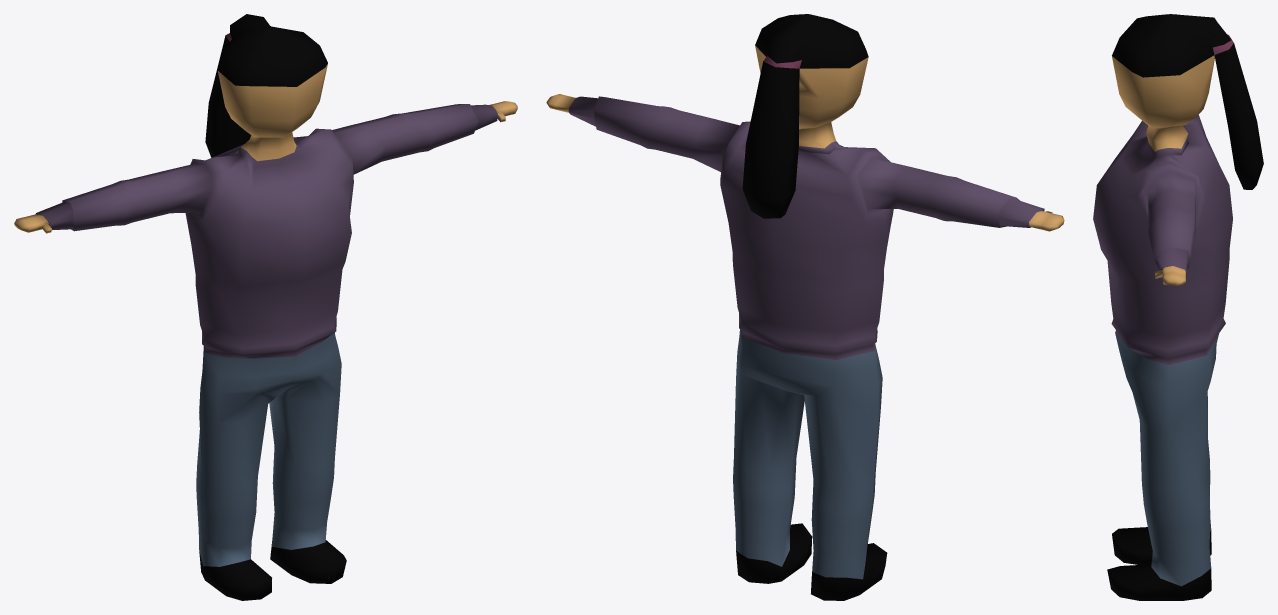
Rendered from Sivil kadın.fbx.
3 views of the same model, side by side, from view 1: azimuth 30°, elevation 25°; view 2: azimuth 150°, elevation 25°; view 3: azimuth 270°, elevation 25° (orthographic). The views are drawn at different scales.
Parts seen in each view (by area): view 1: Cylinder.003; view 2: Cylinder.003; view 3: Cylinder.003.
Part boxes in pixels (x1=…): Cylinder.003: x1=14, y1=14, x2=517, y2=600; Cylinder.003: x1=546, y1=14, x2=1064, y2=600; Cylinder.003: x1=1093, y1=14, x2=1263, y2=600.
Bounding box in the file's own units: 1122 × 1180 × 327.
